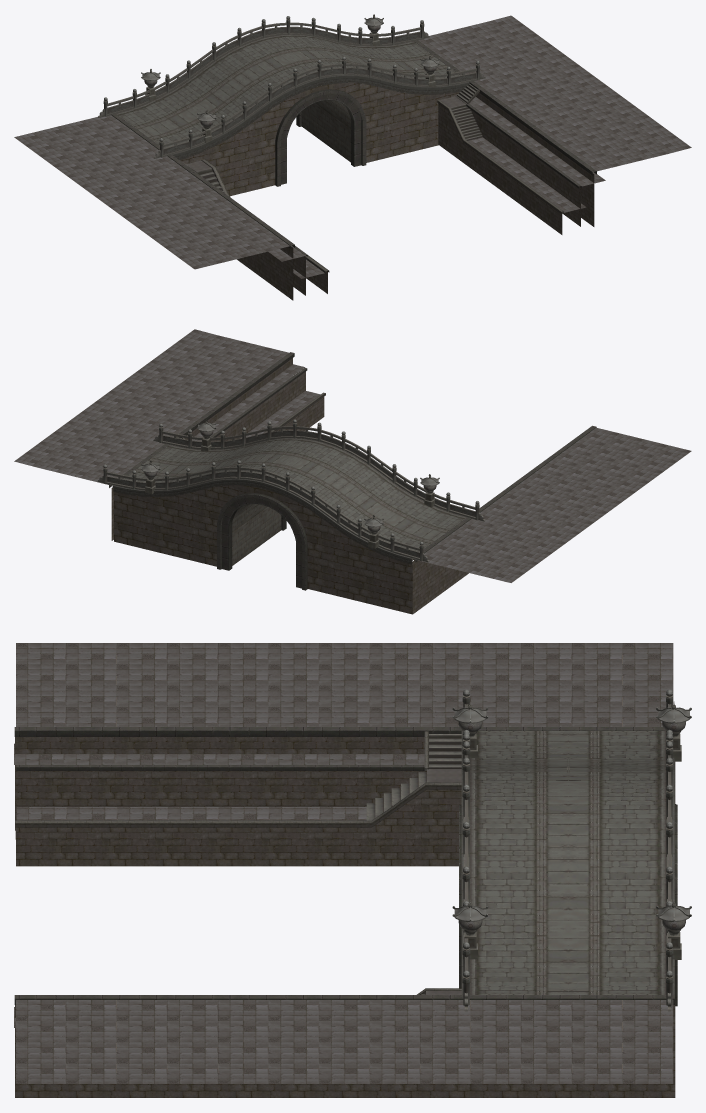
The model's file is fy_xuanren_qiao.FBX.
3 views of the same model, one above another, from view 1: azimuth 30°, elevation 25°; view 2: azimuth 150°, elevation 25°; view 3: azimuth 270°, elevation 25° (orthographic). The views are drawn at different scales.
Parts seen in each view (by area): view 1: fy_xuanren_qiao; view 2: fy_xuanren_qiao; view 3: fy_xuanren_qiao.
Boxes of the visible parts, x1,y1,x2,y2 form: fy_xuanren_qiao: (14,14,691,300); fy_xuanren_qiao: (14,329,691,614); fy_xuanren_qiao: (14,643,691,1097).
Bounding box in the file's own units: 4483 × 998 × 2908.
